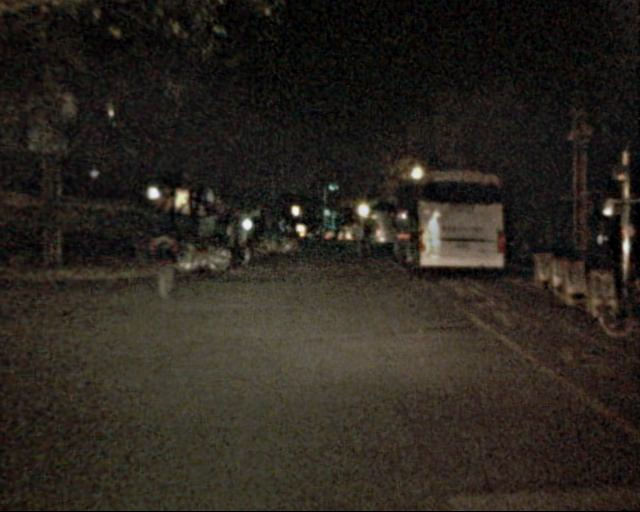person: (147, 215, 181, 299), (222, 213, 246, 272), (351, 221, 375, 259)
